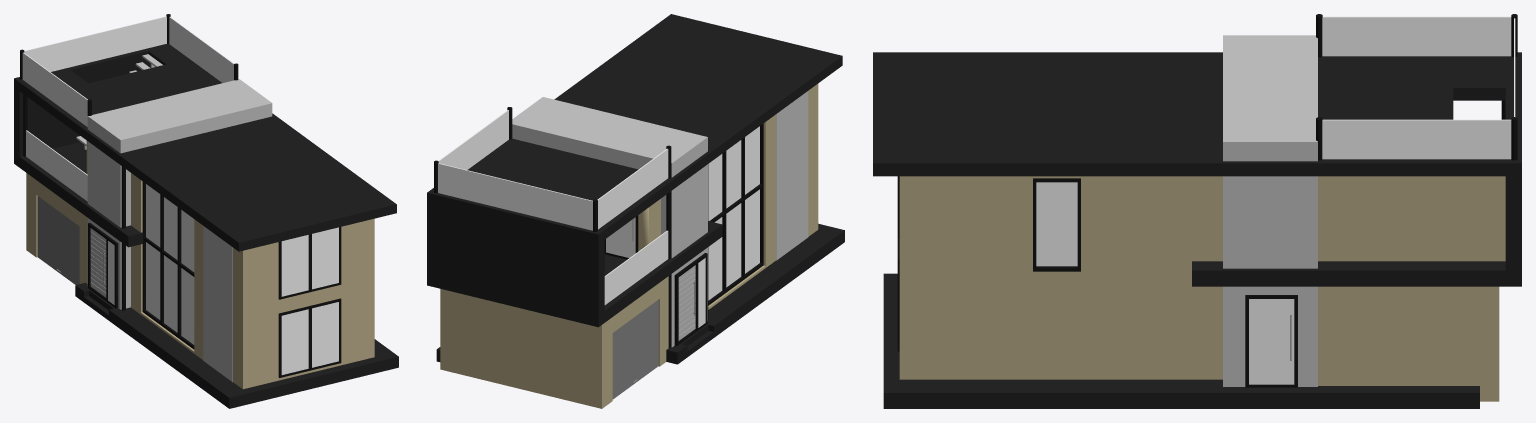
The model's file is house.obj.
3 renders of one model, left to right at view 1: azimuth 30°, elevation 25°; view 2: azimuth 150°, elevation 25°; view 3: azimuth 270°, elevation 25°, orthographic. The views are drawn at different scales.
Visible parts, largest first — view 1: Cladding, Box009, Parter, Parter001, Box011, Box037, Box091, Box084, Box036, Box012, Box082, Box083 (+10 smaller); view 2: Cladding, Box012, Box009, Box037, Box011, Box091, Box084, Box036, Parter001, Box082, Parter, Box085 (+7 smaller); view 3: Cladding, Parter001, Parter, Box009, Box012, Box011, Box082, Box083, Box100, Box048.
Part boxes in pixels (x1,y1,x2,y2): Cladding: (14,44,396,251); Box009: (87,79,272,309); Parter: (131,244,374,389); Parter001: (86,140,374,319); Box011: (75,282,398,408); Box037: (146,184,194,344); Box091: (203,226,232,382); Box084: (24,16,166,71); Box036: (37,196,79,284); Box012: (26,173,87,283); Box082: (22,52,87,126); Box083: (169,17,234,82); Cladding: (427,14,842,327); Box012: (440,276,668,408); Box009: (512,97,707,347); Box037: (708,126,759,300); Box011: (436,223,844,364); Box091: (776,91,808,260); Box084: (438,163,592,230); Box036: (612,299,658,399); Parter001: (638,83,818,251); Box082: (597,148,668,229); Parter: (708,153,818,309); Box085: (604,230,668,304); Cladding: (873,52,1521,286); Parter001: (899,176,1505,279); Parter: (899,277,1222,379); Box009: (1223,35,1317,386); Box012: (1318,286,1499,401); Box011: (883,273,1479,408); Box082: (1322,16,1511,56); Box083: (1322,119,1511,159); Box100: (1249,299,1294,384); Box048: (1036,182,1077,266).
Size of the model in its own units: 6.44 by 7.1 by 14.79.
